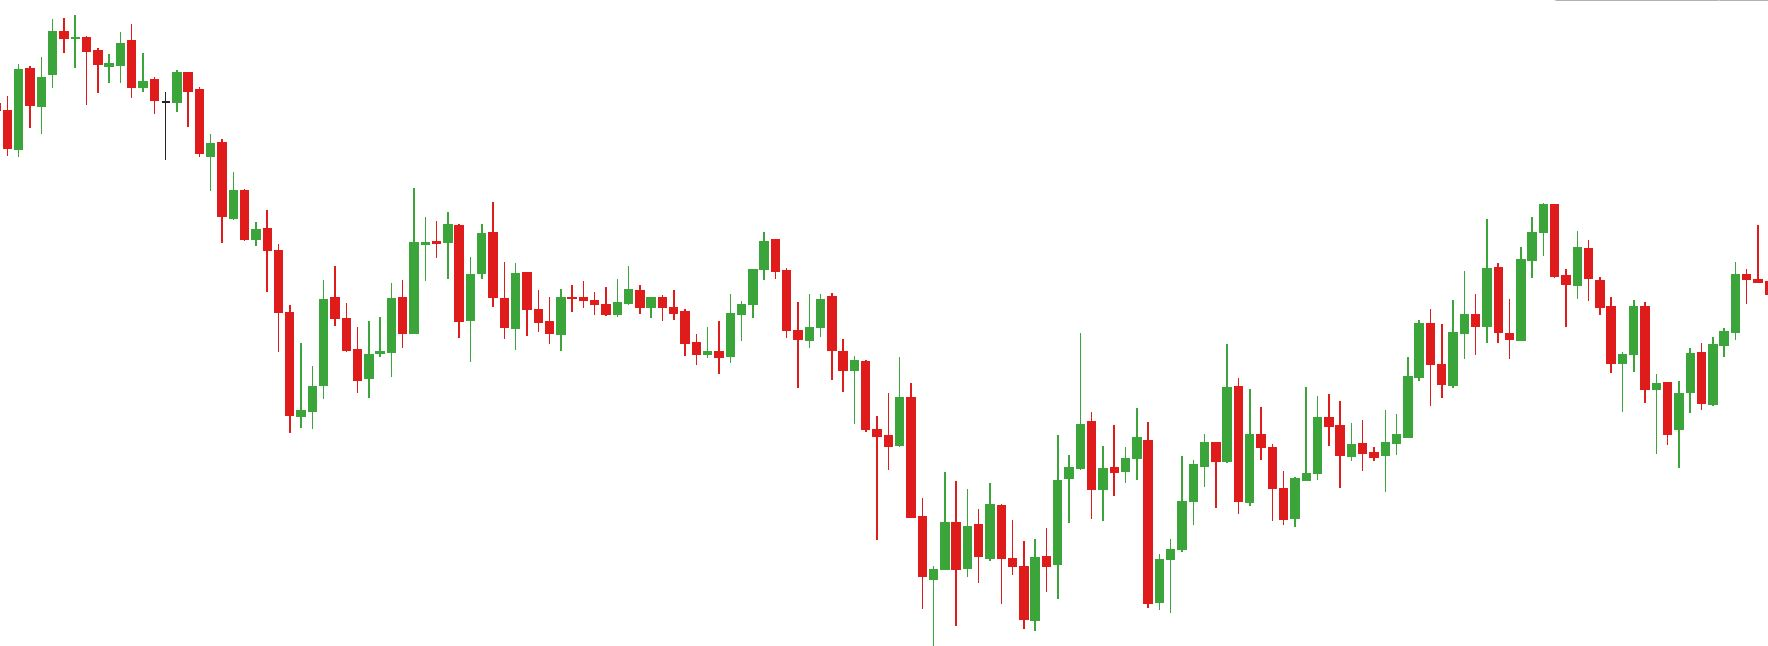buy: (1041, 492, 1164, 614), (1231, 425, 1303, 529)
sell: (622, 234, 779, 320), (1479, 201, 1562, 313)
